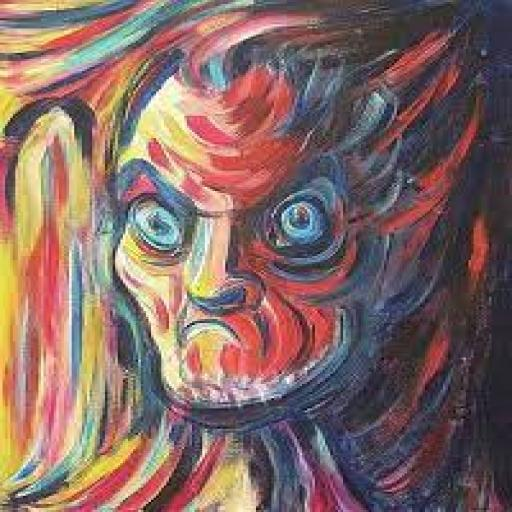person: (116, 45, 404, 430)
